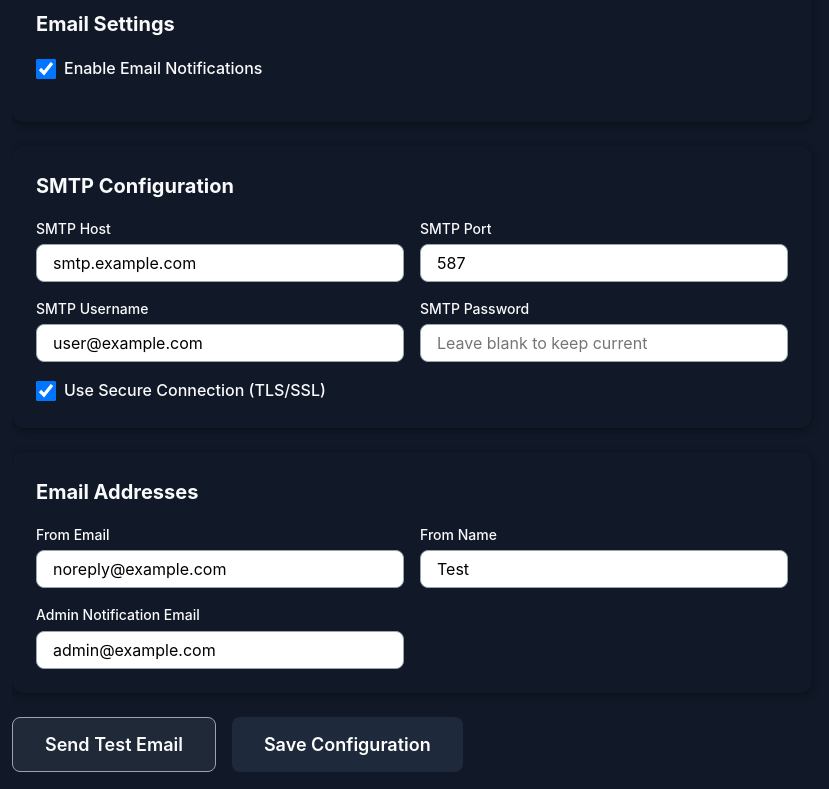
EmailConfigForm › should display error message on save failure
Click the button "Save Configuration" at coordinates (347, 744), box x1=232 y1=717 x2=463 y2=772
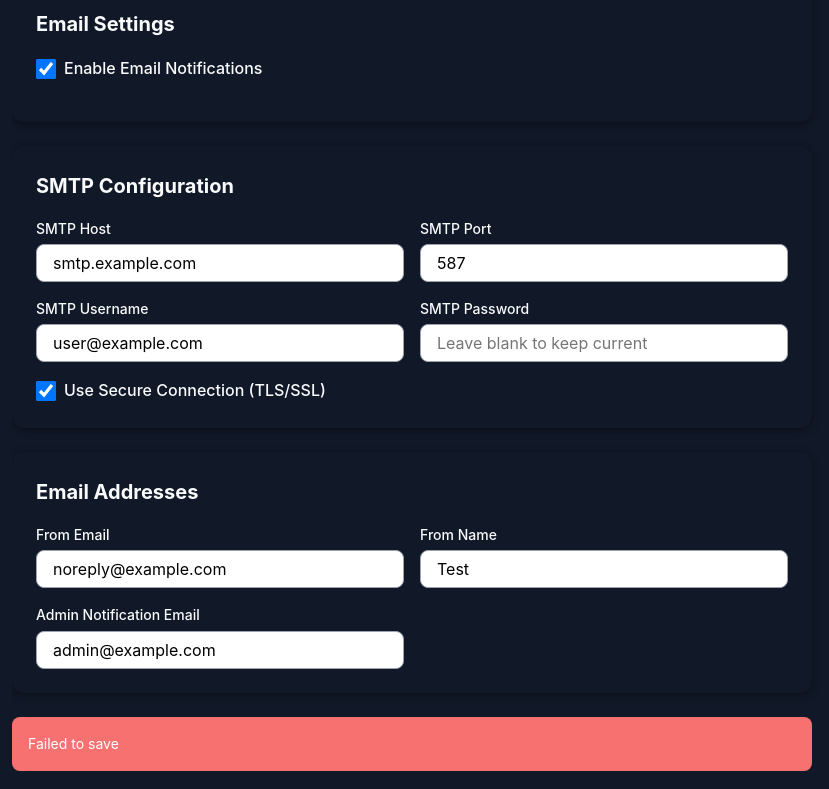
Expected: the text "Failed to save" is shown, x1=12 y1=717 x2=812 y2=771
